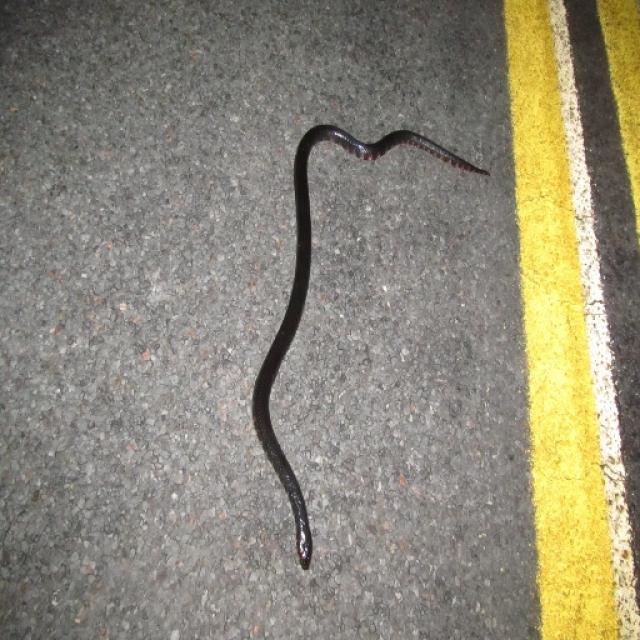snake: (239, 105, 512, 596)
